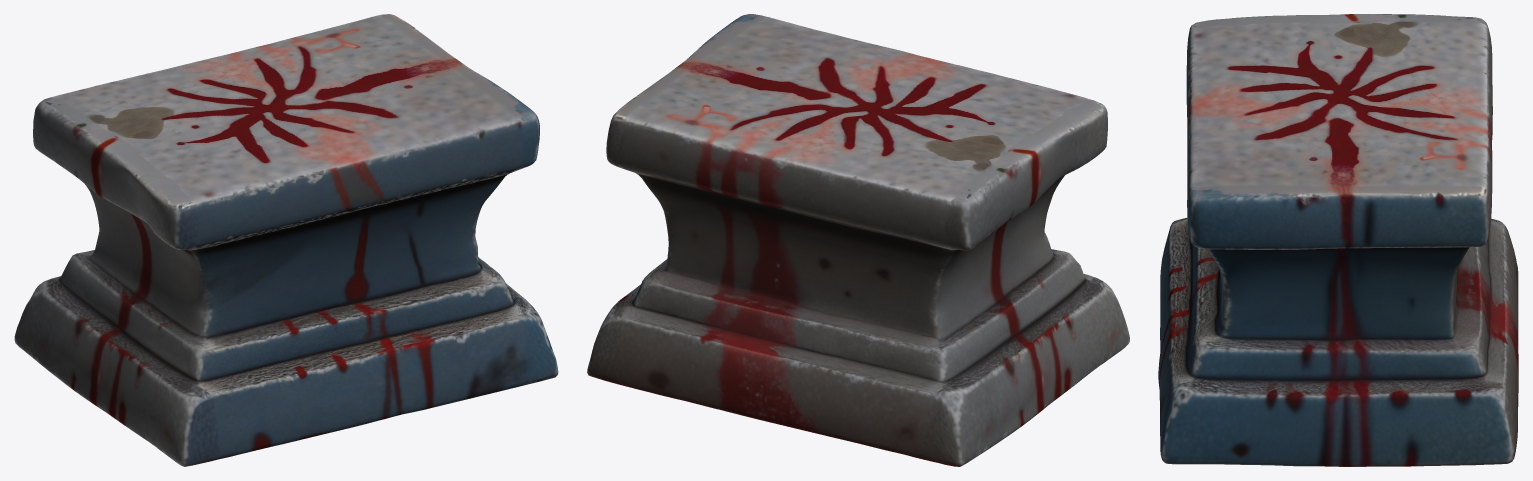
The model's file is stone_altar.glb.
The picture shows the model from 3 angles, left to right: view 1: azimuth 30°, elevation 25°; view 2: azimuth 150°, elevation 25°; view 3: azimuth 270°, elevation 25°; orthographic projection. The views are drawn at different scales.
Bounding box in the file's own units: 2 × 1.32 × 1.59.
Materials: 1 (1 with a texture image).
